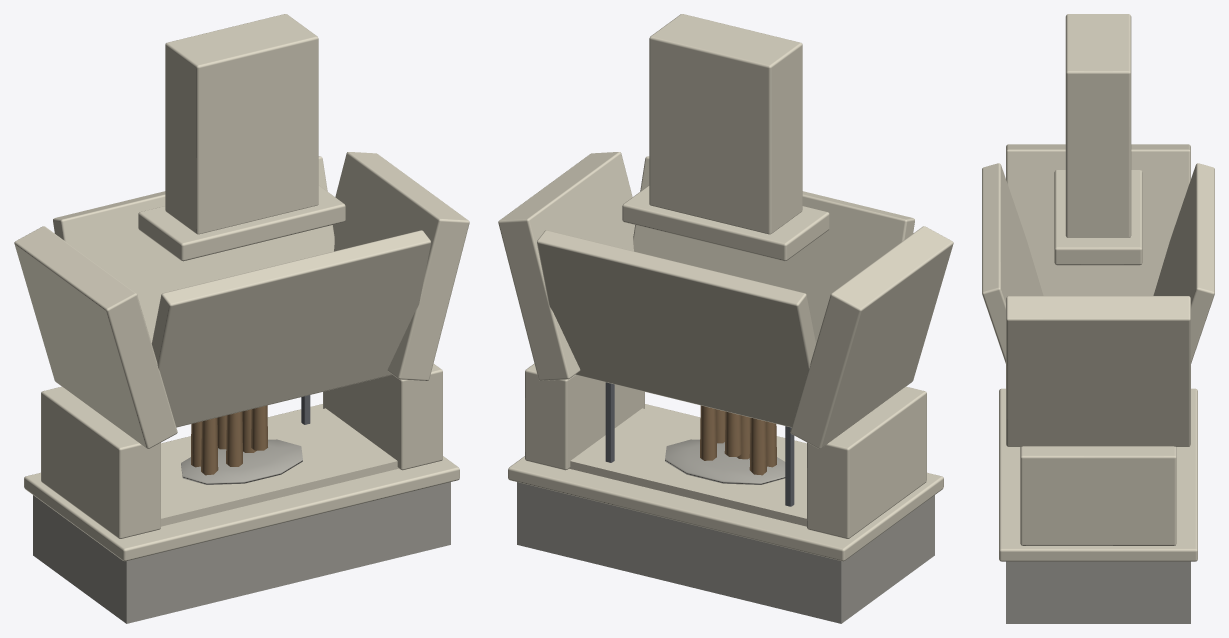
File: kitchen-hearth.glb
3 views of the same model, side by side, from view 1: azimuth 30°, elevation 25°; view 2: azimuth 150°, elevation 25°; view 3: azimuth 270°, elevation 25° (orthographic).
Parts seen in each view (by area): view 1: kitchen-hearth; view 2: kitchen-hearth; view 3: kitchen-hearth.
Part boxes in pixels (box(x1,y1,x2,y2)): kitchen-hearth: box(14, 14, 469, 623); kitchen-hearth: box(498, 14, 953, 623); kitchen-hearth: box(982, 14, 1214, 623).
Bounding box in the file's own units: 2.91 × 3.91 × 1.64.
